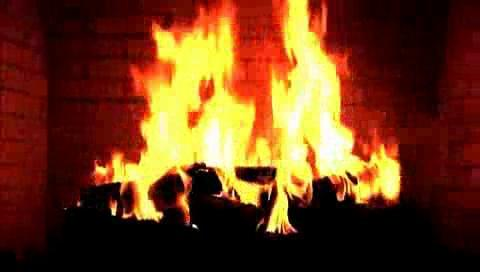fire: (115, 17, 396, 240)
